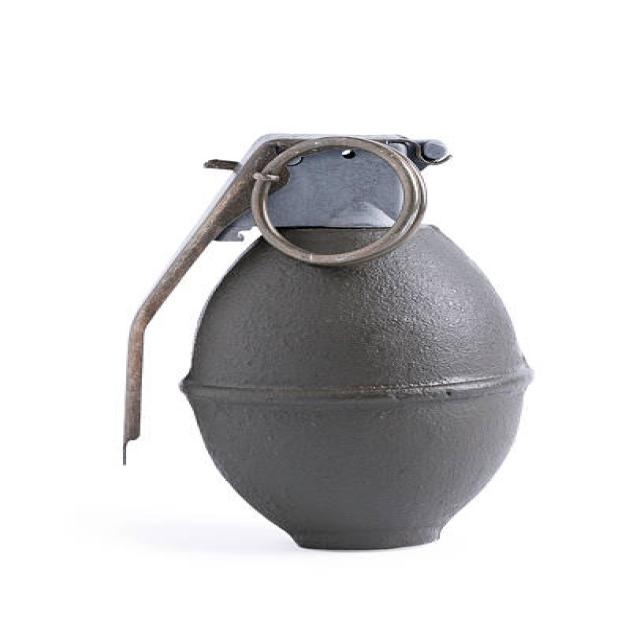grenade: (106, 125, 556, 568)
